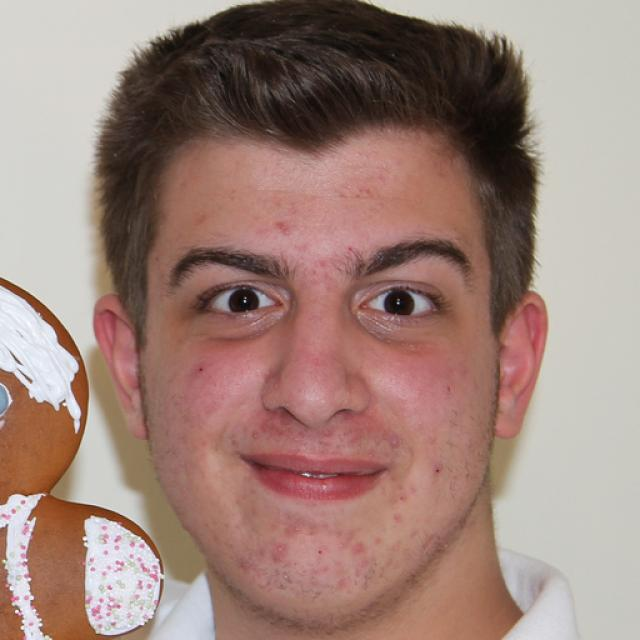Acne: (351, 148, 379, 171), (383, 426, 405, 452), (267, 218, 291, 240), (265, 535, 286, 557), (274, 568, 295, 589), (289, 516, 308, 539), (329, 537, 347, 560), (288, 434, 313, 449), (243, 424, 262, 443), (347, 538, 364, 557), (315, 427, 338, 439)
Spots: (183, 353, 214, 383), (357, 438, 379, 467), (424, 460, 446, 480)
